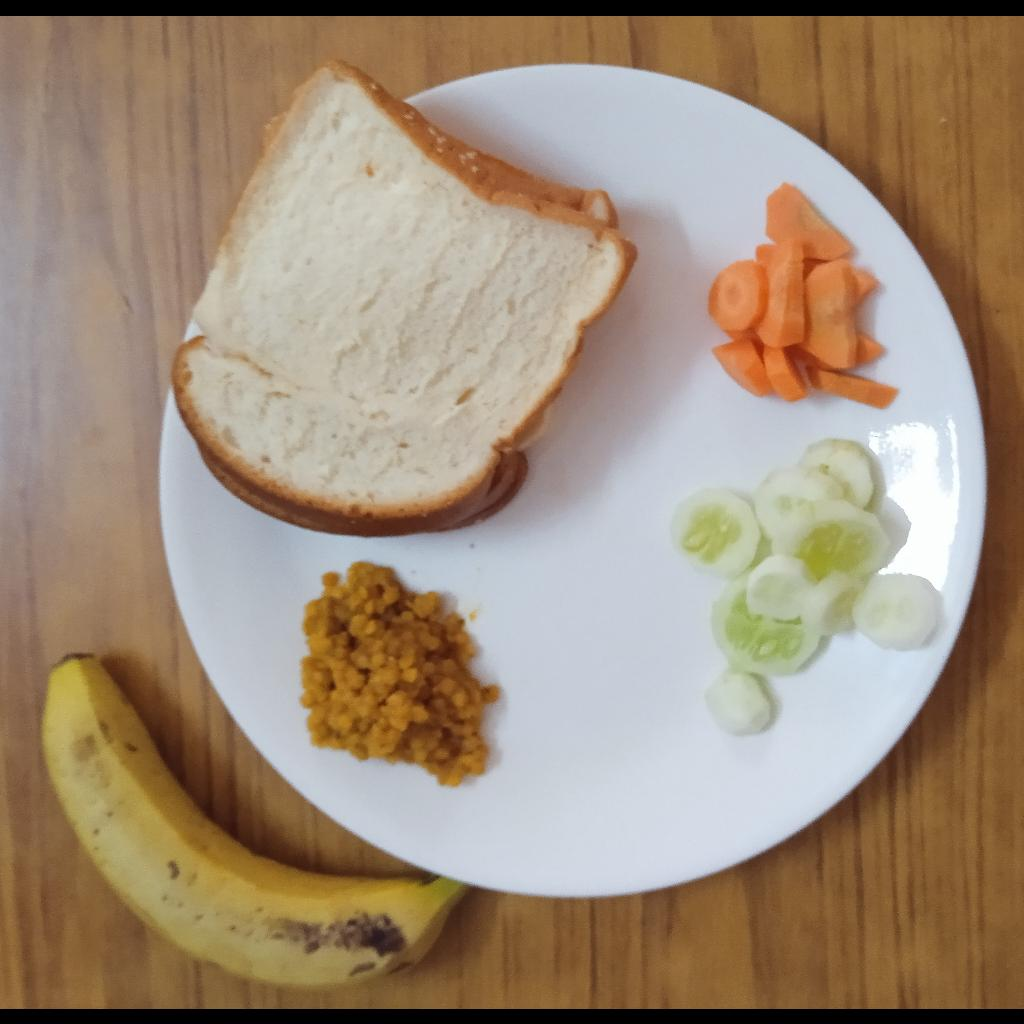banana: (42, 653, 474, 991)
bread: (170, 58, 639, 537)
carrot: (708, 182, 902, 411)
cucumber: (669, 438, 938, 739)
daal: (298, 562, 499, 789)
